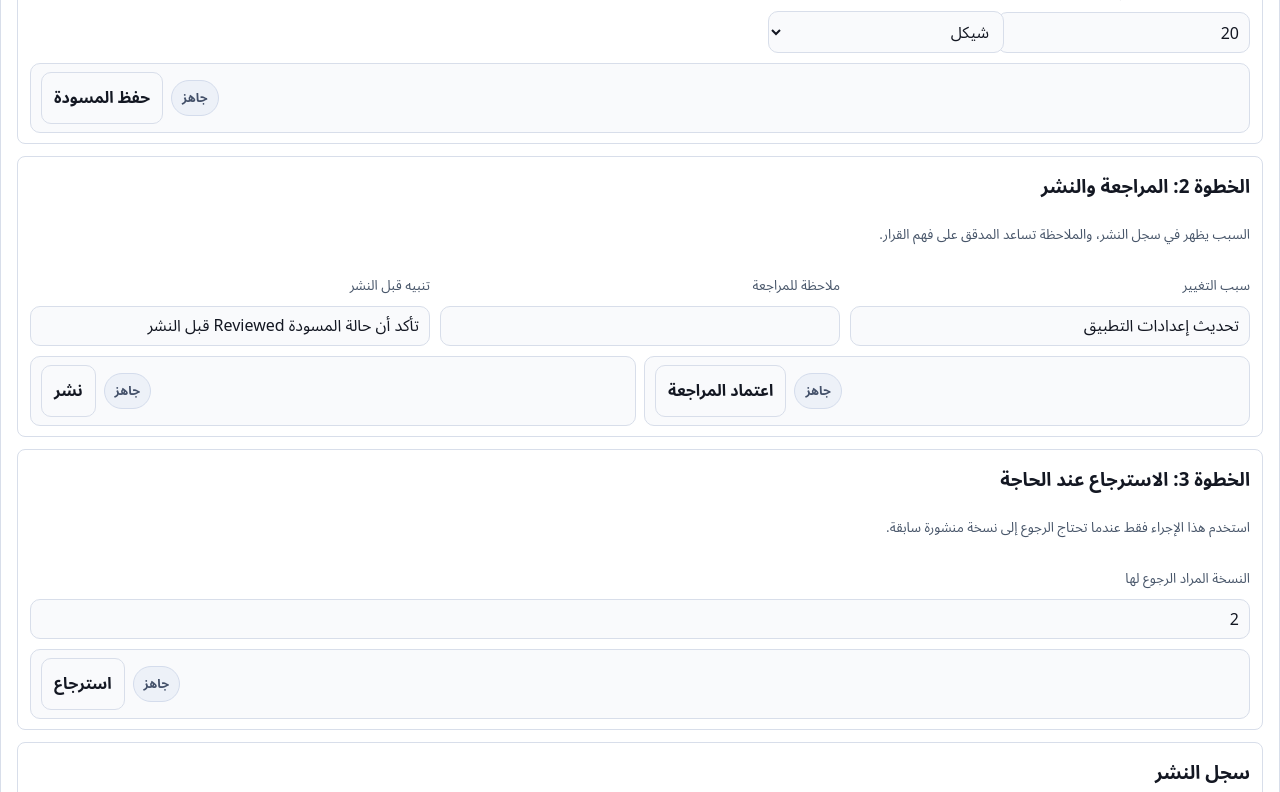
it: config governance shell › surfaces unavailable runtime when transport is unavailable
(page scrolled)
Click the button "نشر". click: (68, 391)
box: [41, 365, 96, 417]
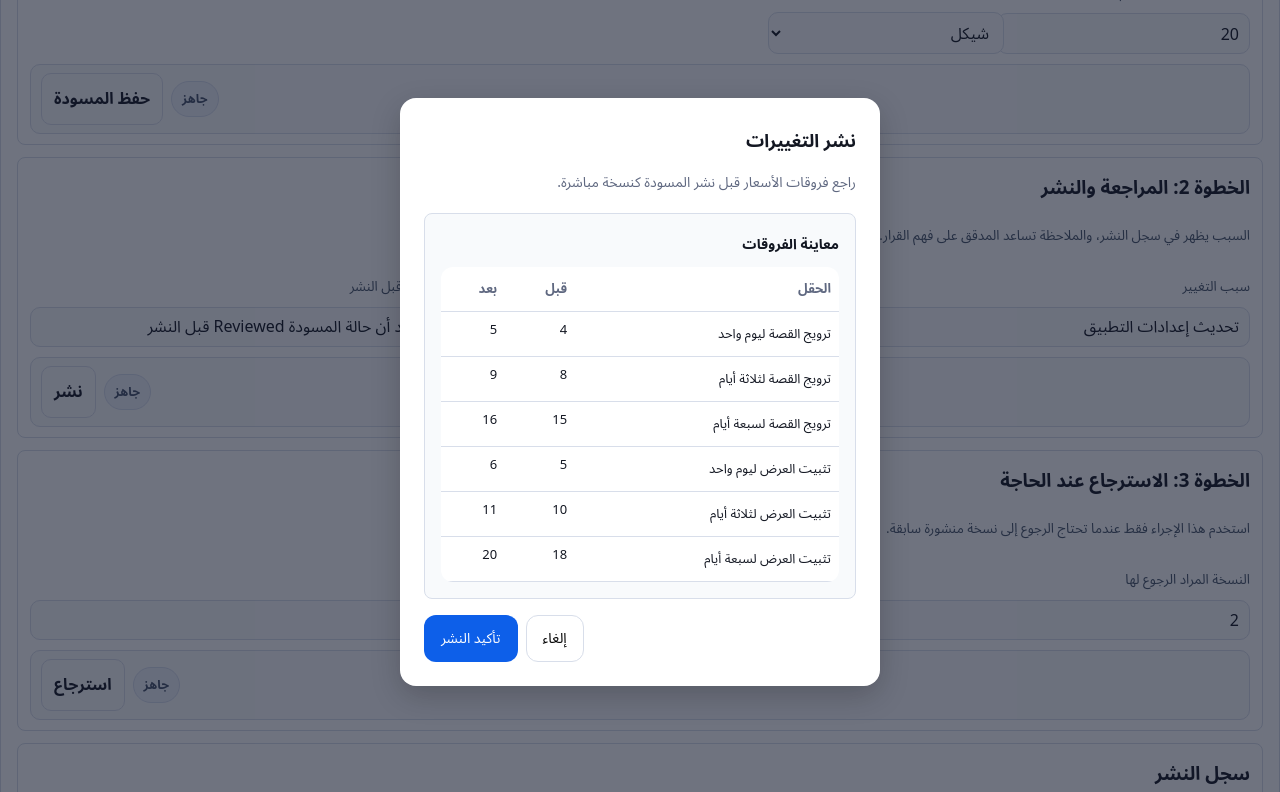
Click the button "تأكيد النشر". click: (471, 638)
box: [424, 615, 518, 662]
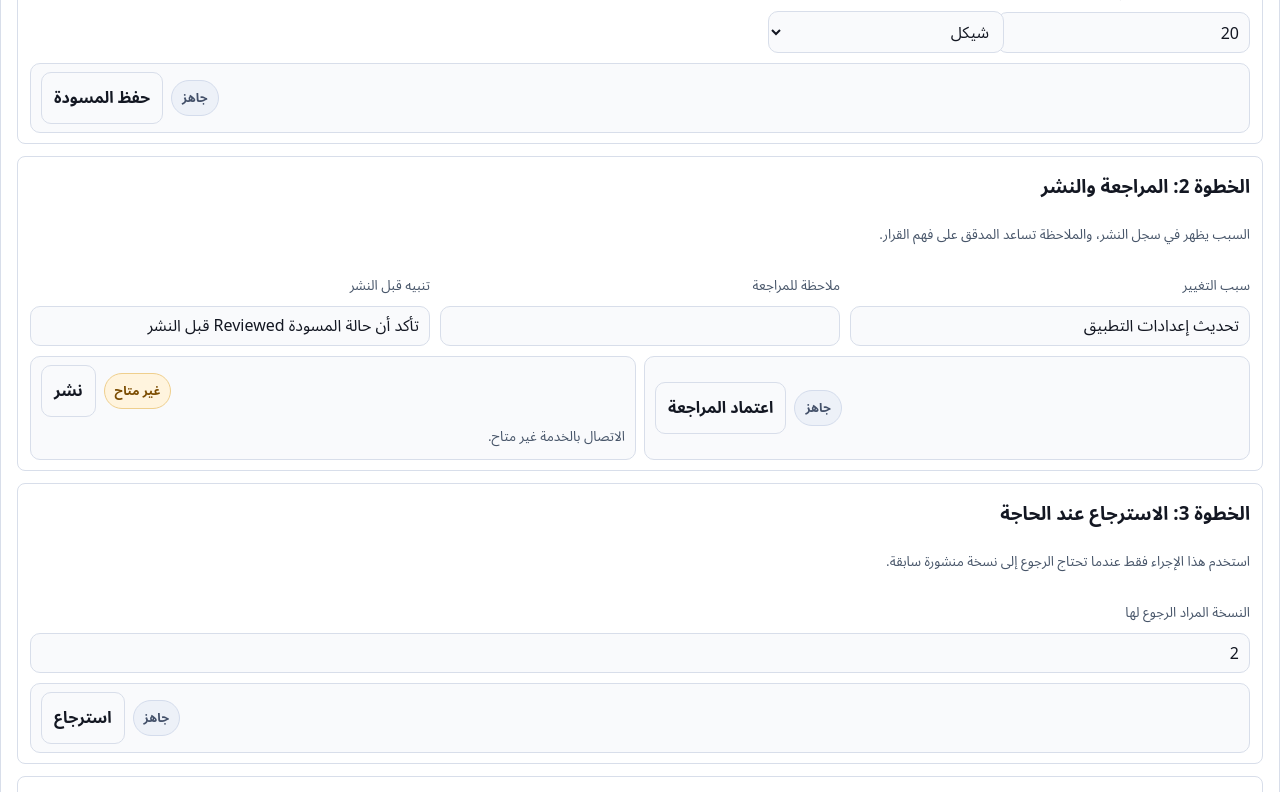
Expected: the text "الاتصال بالخدمة غير متاح." is shown, [488, 427, 625, 445]
